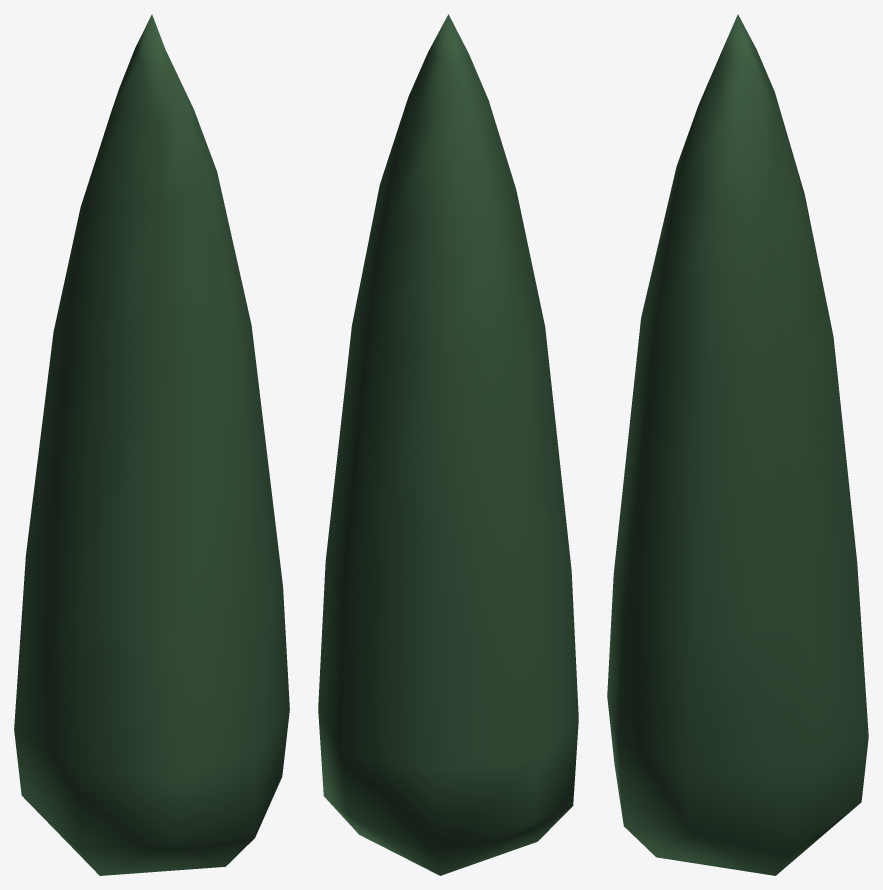
3 renders of one model, left to right at view 1: azimuth 30°, elevation 25°; view 2: azimuth 150°, elevation 25°; view 3: azimuth 270°, elevation 25°, orthographic.
Visible parts, largest first — view 1: treeEvergrn.037; view 2: treeEvergrn.037; view 3: treeEvergrn.037.
Part boxes in pixels (<box>): treeEvergrn.037: <box>14,14,289,875</box>; treeEvergrn.037: <box>318,14,578,875</box>; treeEvergrn.037: <box>607,14,868,875</box>.
Bounding box in the file's own units: 0.1402 × 0.5 × 0.1402.
